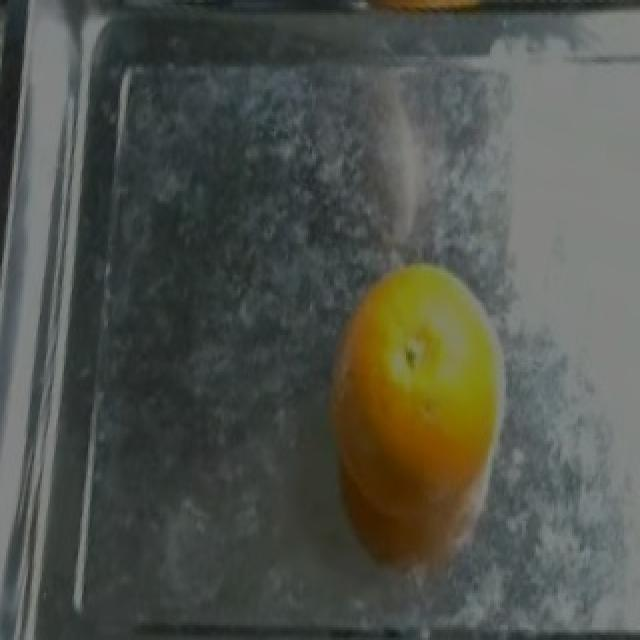Fruit: (316, 243, 530, 595)
